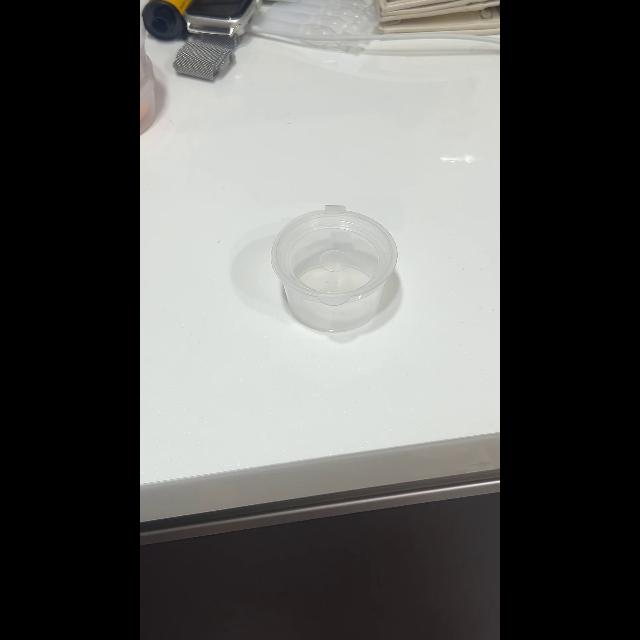clean: (272, 204, 406, 332)
